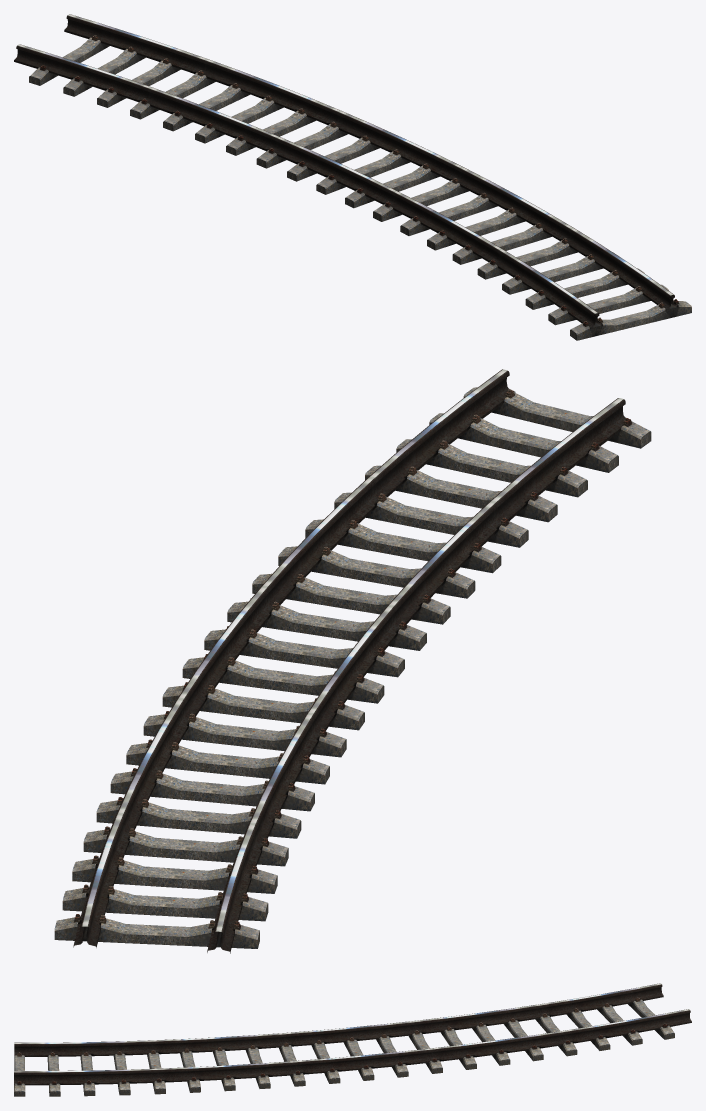
The model's file is Beton_rail_25.FBX.
3 views of the same model, one above another, from view 1: azimuth 30°, elevation 25°; view 2: azimuth 150°, elevation 25°; view 3: azimuth 270°, elevation 25° (orthographic). The views are drawn at different scales.
Parts seen in each view (by area): view 1: Beton_rail_25_LOD0; view 2: Beton_rail_25_LOD0; view 3: Beton_rail_25_LOD0.
Part boxes in pixels (box(x1,y1,x2,y2)): Beton_rail_25_LOD0: box(14, 14, 691, 340); Beton_rail_25_LOD0: box(54, 369, 651, 953); Beton_rail_25_LOD0: box(14, 983, 691, 1096).
Size of what is drawn, in the model's own units: 5.73 by 16.73 by 0.4774.
